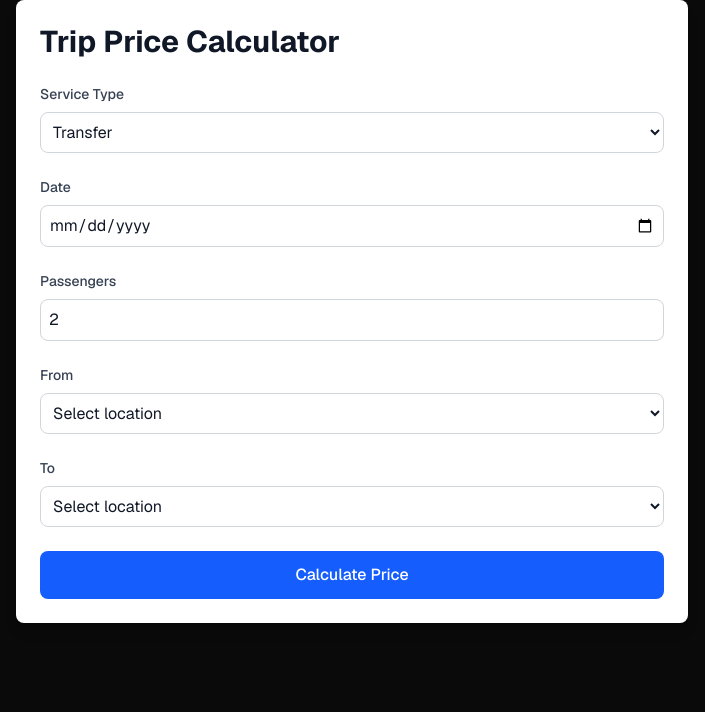
Scenario: Calculator Component › Validation › should show error when date is missing
The image size is (705, 712).
Select "Transfer" in the dropdown labelled "Service Type" at (352, 132), box [40, 112, 664, 153]
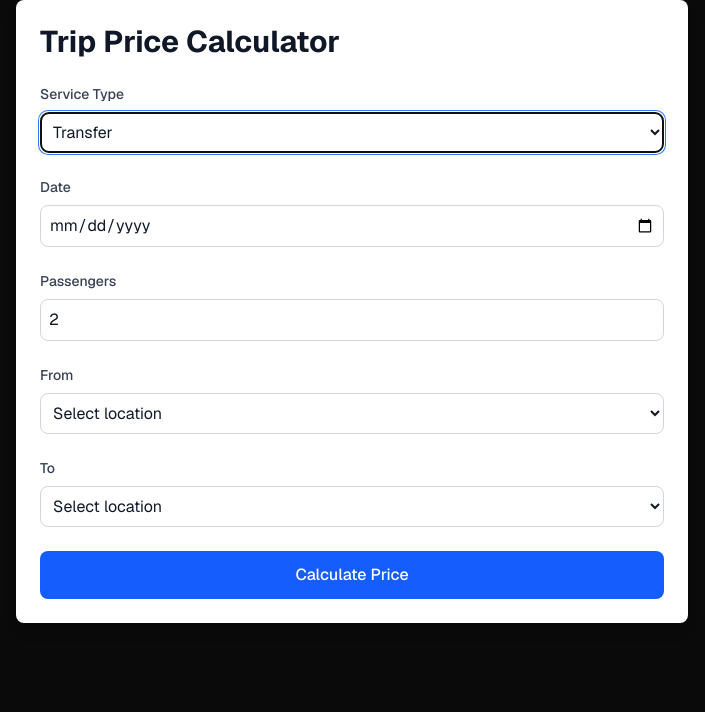
Type "4" into the number field labelled "Passengers" at (352, 320), box [40, 299, 664, 341]
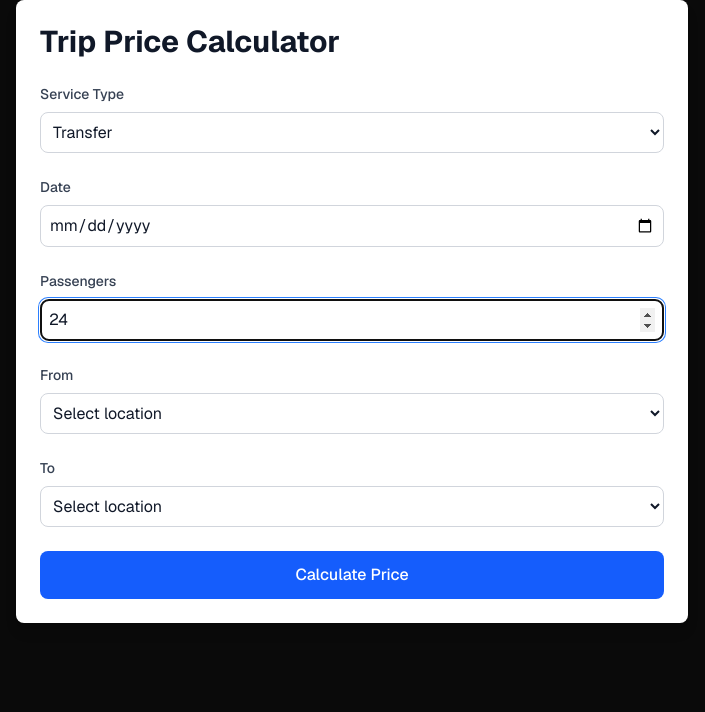
Click the button "Calculate Price" at (352, 575), box [40, 551, 664, 599]
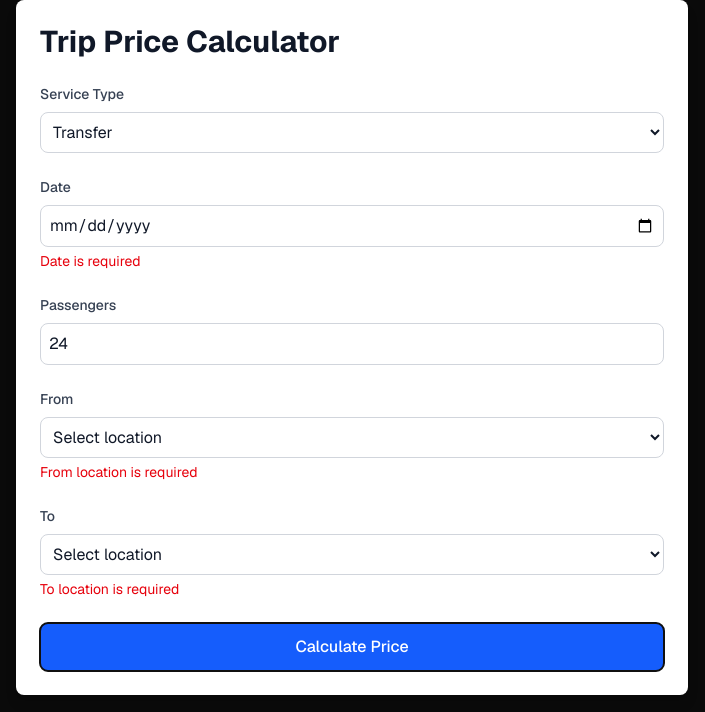
Check: the text "Date is required" is shown, box [40, 252, 140, 270]
